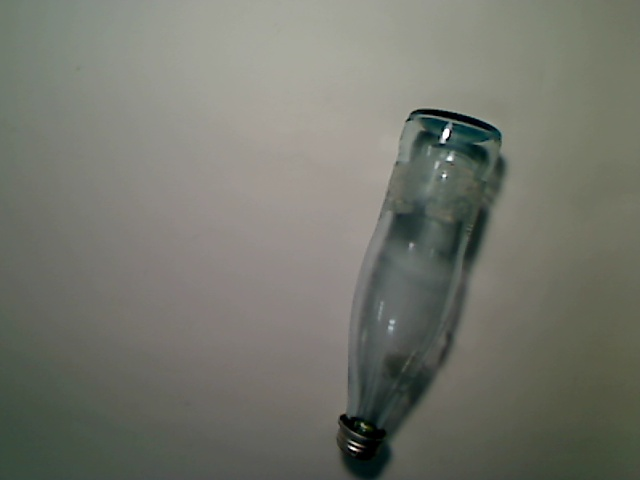bottle: (335, 109, 503, 460)
